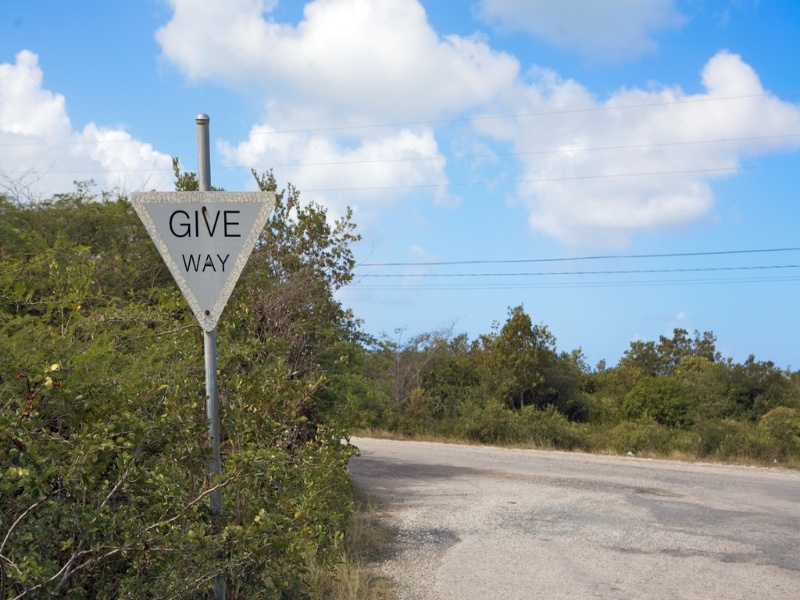give_way: (116, 182, 278, 335)
